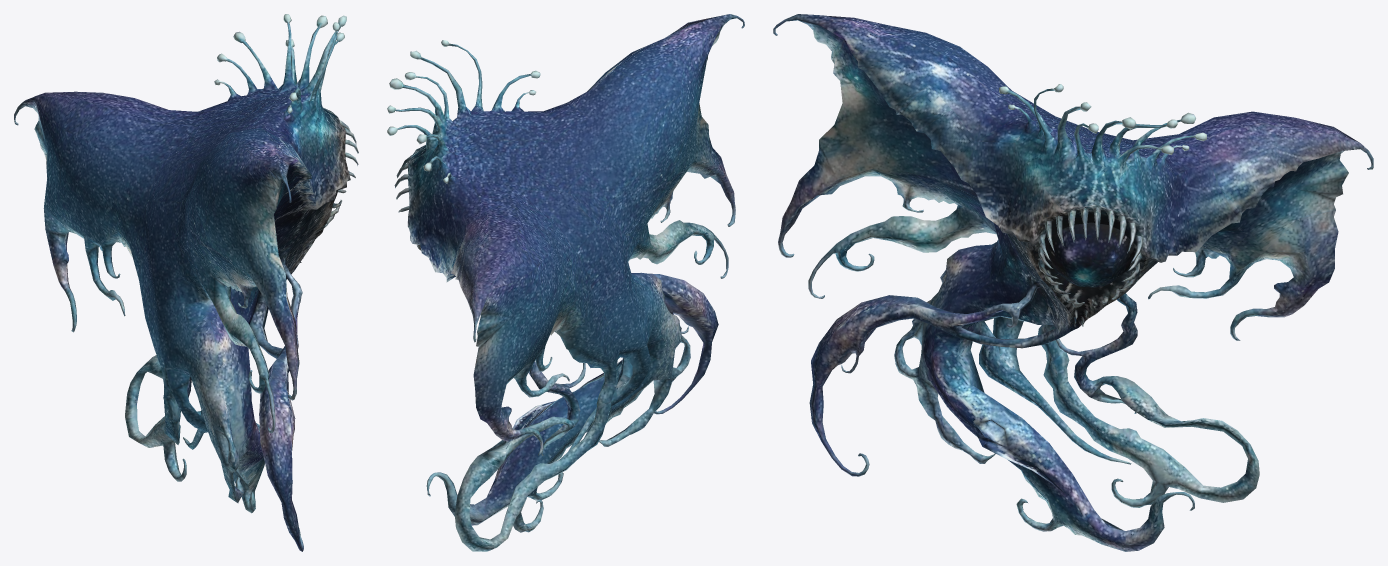
The model's file is hadal-pressure-wraith.glb.
The picture shows the model from 3 angles, left to right: view 1: azimuth 30°, elevation 25°; view 2: azimuth 150°, elevation 25°; view 3: azimuth 270°, elevation 25°; orthographic projection. The views are drawn at different scales.
Parts seen in each view (by area): view 1: tripo_node_96d2103b-1202-4d2c-bb11-f46ca8fa6d3a; view 2: tripo_node_96d2103b-1202-4d2c-bb11-f46ca8fa6d3a; view 3: tripo_node_96d2103b-1202-4d2c-bb11-f46ca8fa6d3a.
Boxes of the visible parts, x1=… form: tripo_node_96d2103b-1202-4d2c-bb11-f46ca8fa6d3a: x1=14, y1=14, x2=358, y2=551; tripo_node_96d2103b-1202-4d2c-bb11-f46ca8fa6d3a: x1=387, y1=14, x2=744, y2=551; tripo_node_96d2103b-1202-4d2c-bb11-f46ca8fa6d3a: x1=773, y1=14, x2=1373, y2=551.
Bounding box in the file's own units: 0.4512 × 0.9199 × 0.998.
1 material, 1 textured.
